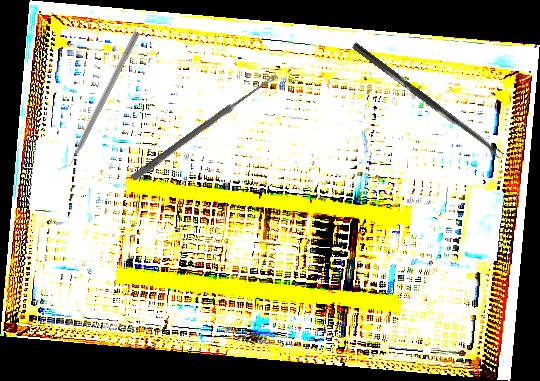Chopper: (55, 27, 141, 175)
Surgical Spoon: (351, 42, 504, 160), (130, 71, 279, 183)
